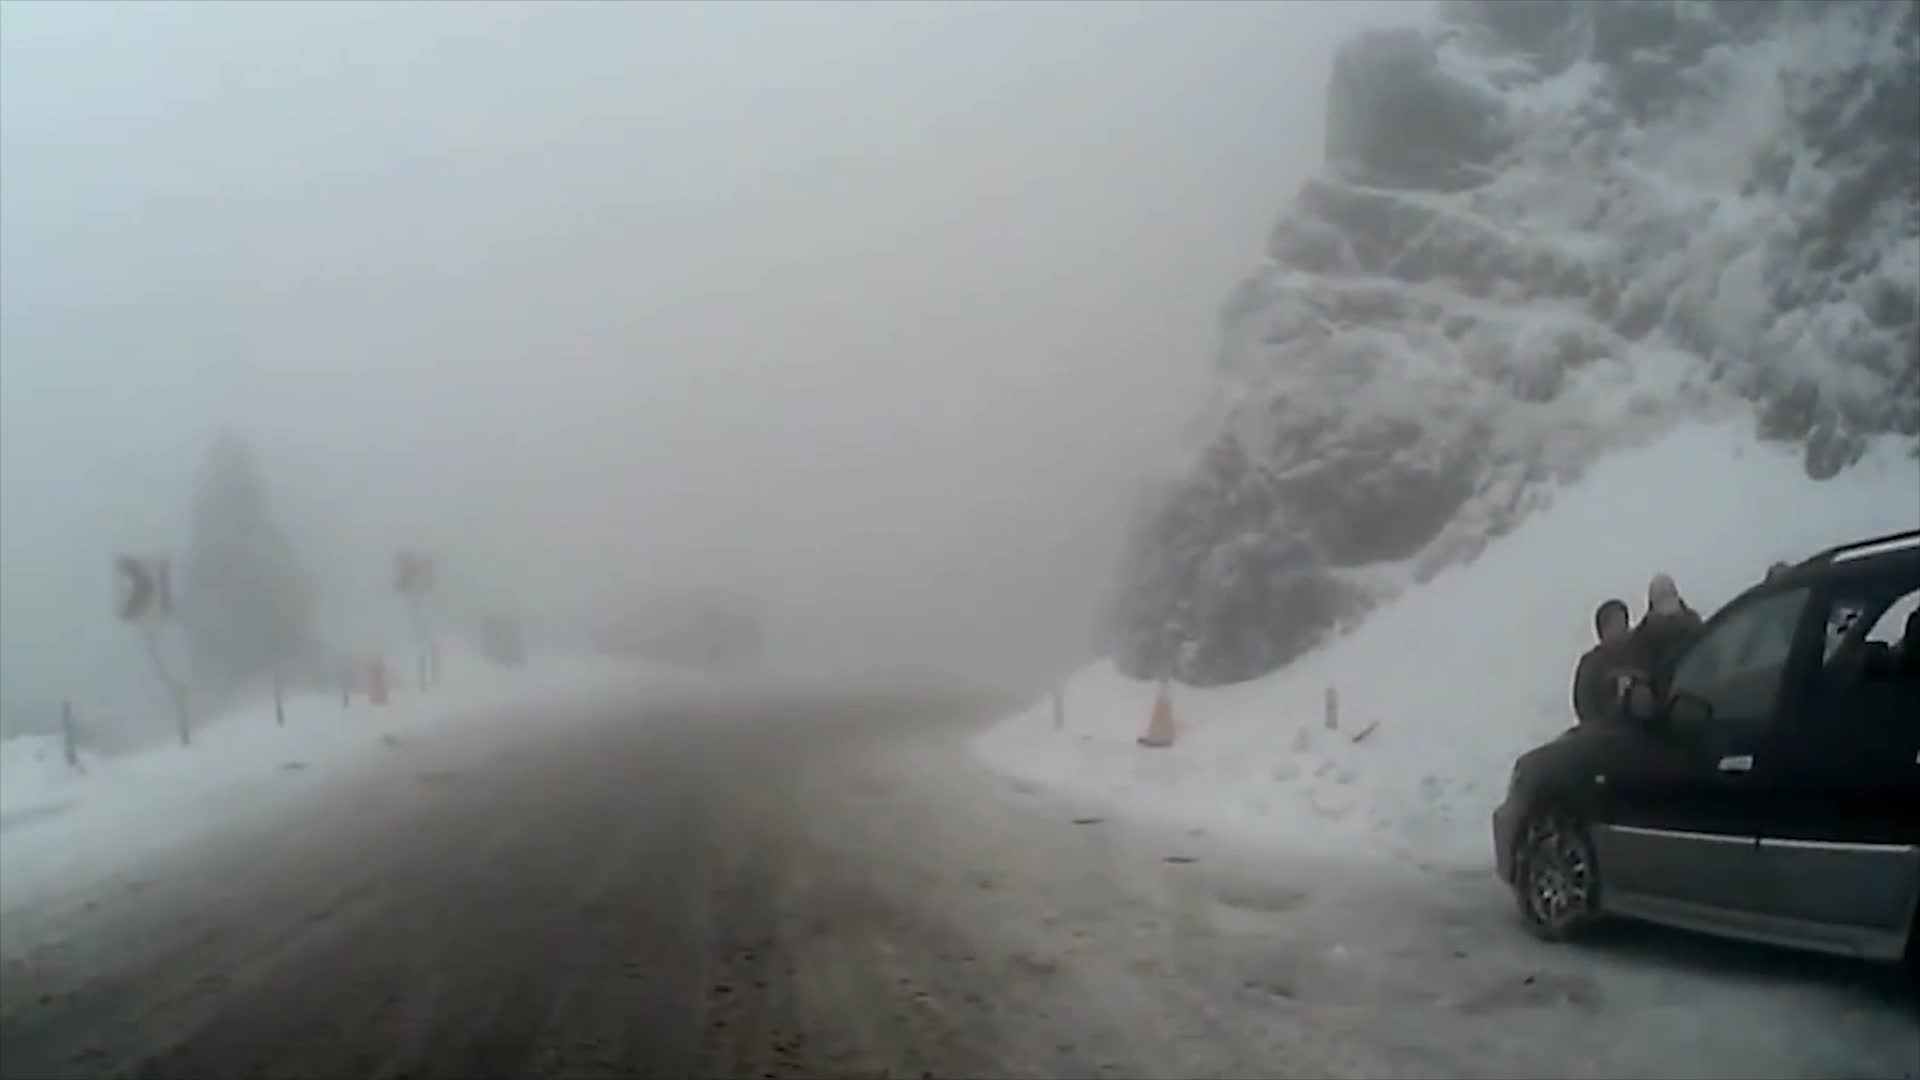pedestrian: (1570, 600, 1657, 895), (1641, 579, 1729, 854)
vehicle: (1490, 526, 1920, 1007)
